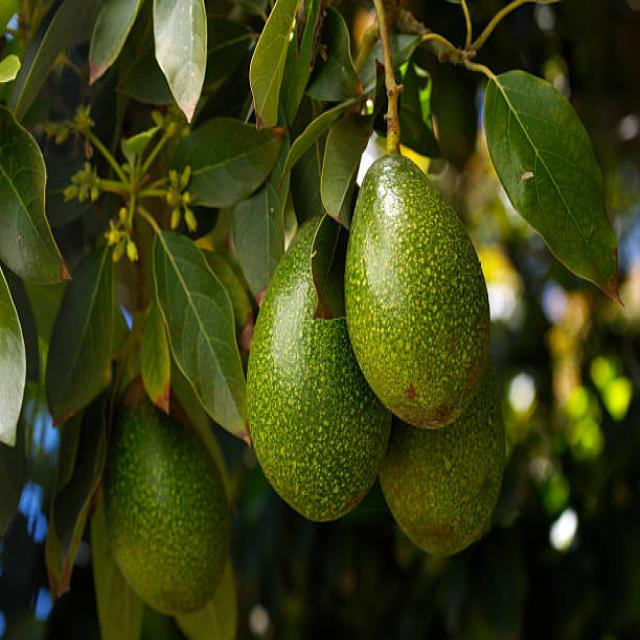Avocado: (243, 201, 383, 530), (338, 147, 497, 429), (106, 398, 232, 632), (380, 402, 523, 567)
